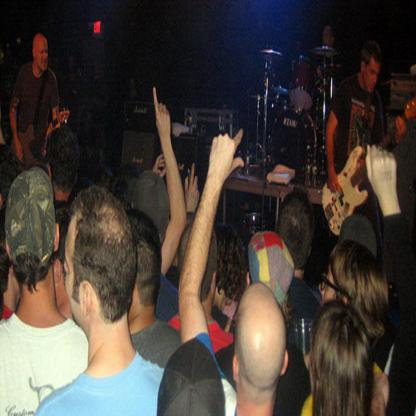face: (64, 219, 91, 326), (319, 265, 340, 311), (366, 58, 380, 94), (36, 39, 48, 72), (323, 27, 334, 50)
